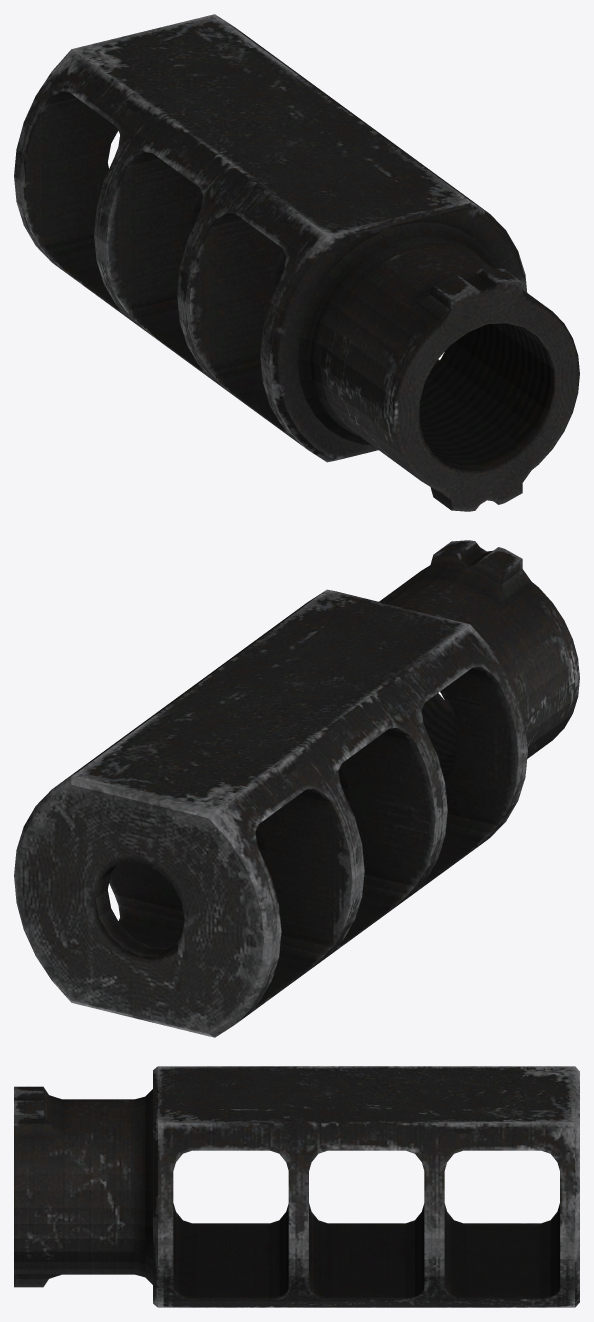
3 renders of one model, top to bottom at view 1: azimuth 30°, elevation 25°; view 2: azimuth 150°, elevation 25°; view 3: azimuth 270°, elevation 25°, orthographic. The views are drawn at different scales.
Parts seen in each view (by area): view 1: TW_67d41883f378a36c4706eeb7_PZ_Import; view 2: TW_67d41883f378a36c4706eeb7_PZ_Import; view 3: TW_67d41883f378a36c4706eeb7_PZ_Import.
Boxes of the visible parts, x1=… form: TW_67d41883f378a36c4706eeb7_PZ_Import: x1=14, y1=14, x2=579, y2=511; TW_67d41883f378a36c4706eeb7_PZ_Import: x1=14, y1=540, x2=579, y2=1037; TW_67d41883f378a36c4706eeb7_PZ_Import: x1=14, y1=1066, x2=579, y2=1307.
Size of the model in its own units: 0.023 by 0.0536 by 0.0193.
1 material, 1 textured.
